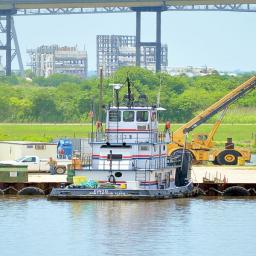tugboat: (44, 82, 202, 204)
